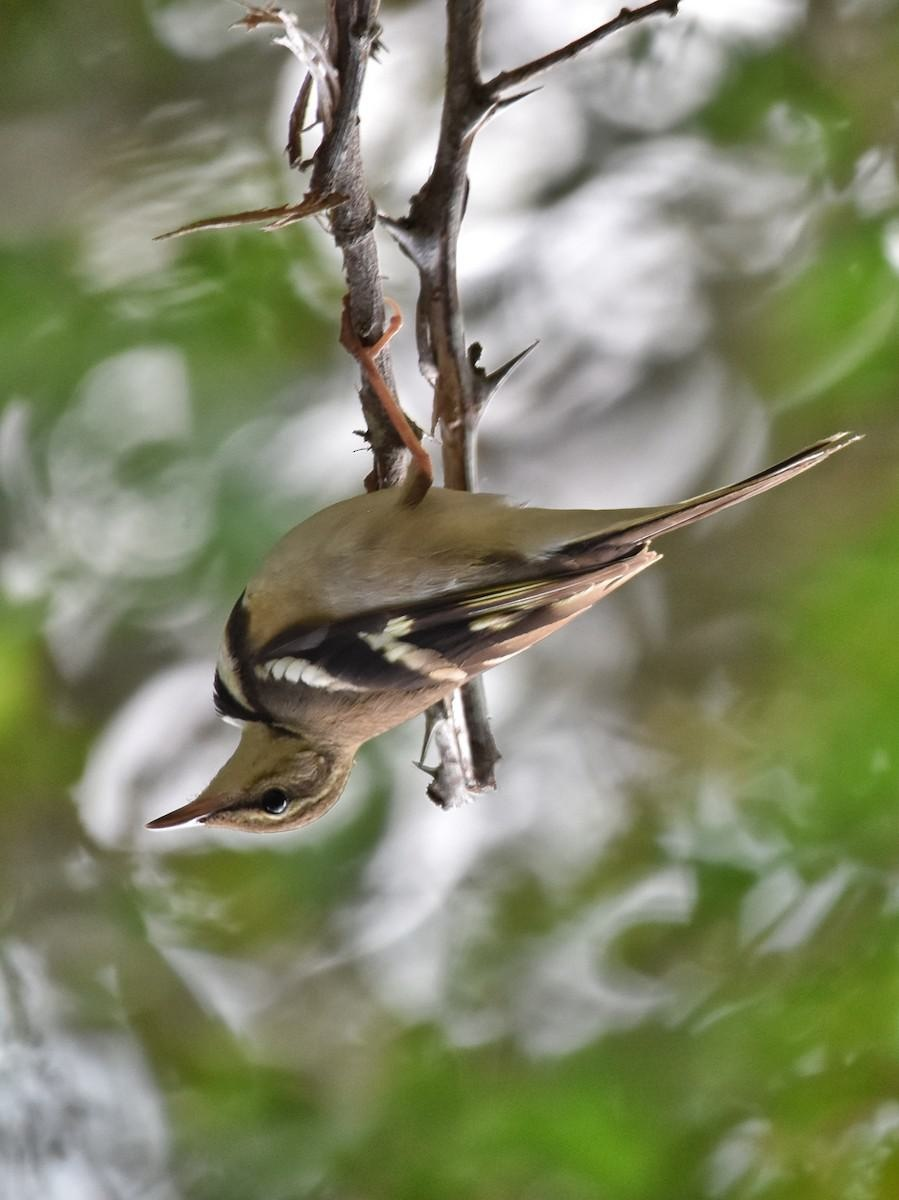wagtail: (121, 338, 833, 857)
